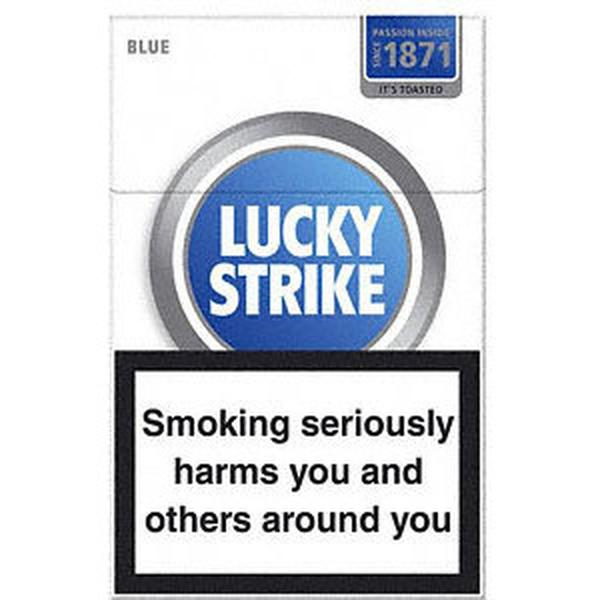lucky_strike_blue: (112, 17, 483, 600)
